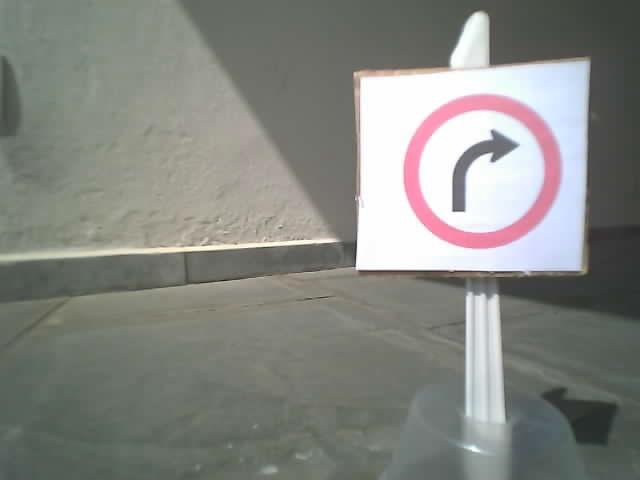R-25b_direita: (402, 92, 561, 247)
